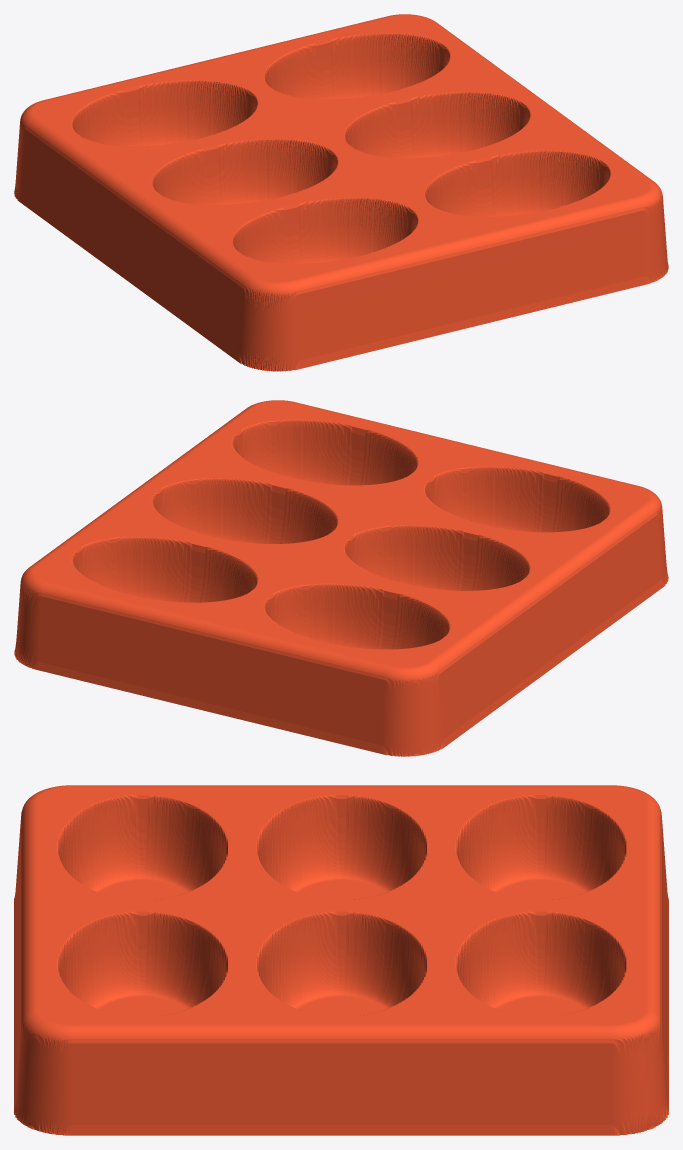
Rendered from mold.glb.
3 renders of one model, top to bottom at view 1: azimuth 30°, elevation 25°; view 2: azimuth 150°, elevation 25°; view 3: azimuth 270°, elevation 25°, orthographic. The views are drawn at different scales.
Parts seen in each view (by area): view 1: geometry_0; view 2: geometry_0; view 3: geometry_0.
Part boxes in pixels (bbox=[...]): geometry_0: bbox=[14, 14, 668, 371]; geometry_0: bbox=[14, 400, 668, 756]; geometry_0: bbox=[14, 785, 668, 1135].
Bounding box in the file's own units: 0.0955 × 0.0175 × 0.1026.
